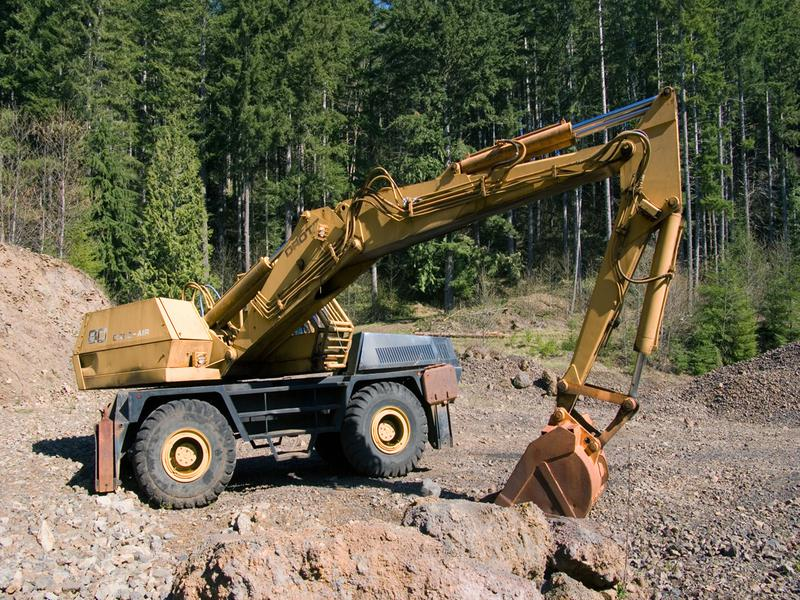shovel: (56, 85, 699, 524)
